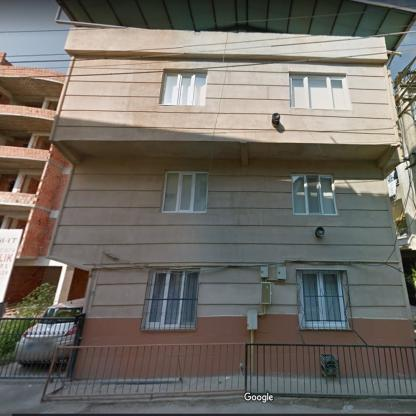window: (146, 270, 198, 327), (299, 271, 346, 326), (290, 76, 347, 108), (162, 172, 207, 212), (292, 175, 336, 214), (162, 72, 206, 106)
